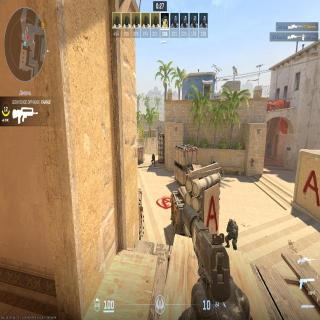CT-Body: (225, 218, 240, 250), (151, 151, 157, 166)
CT-Head: (228, 218, 234, 228), (152, 152, 154, 158)
